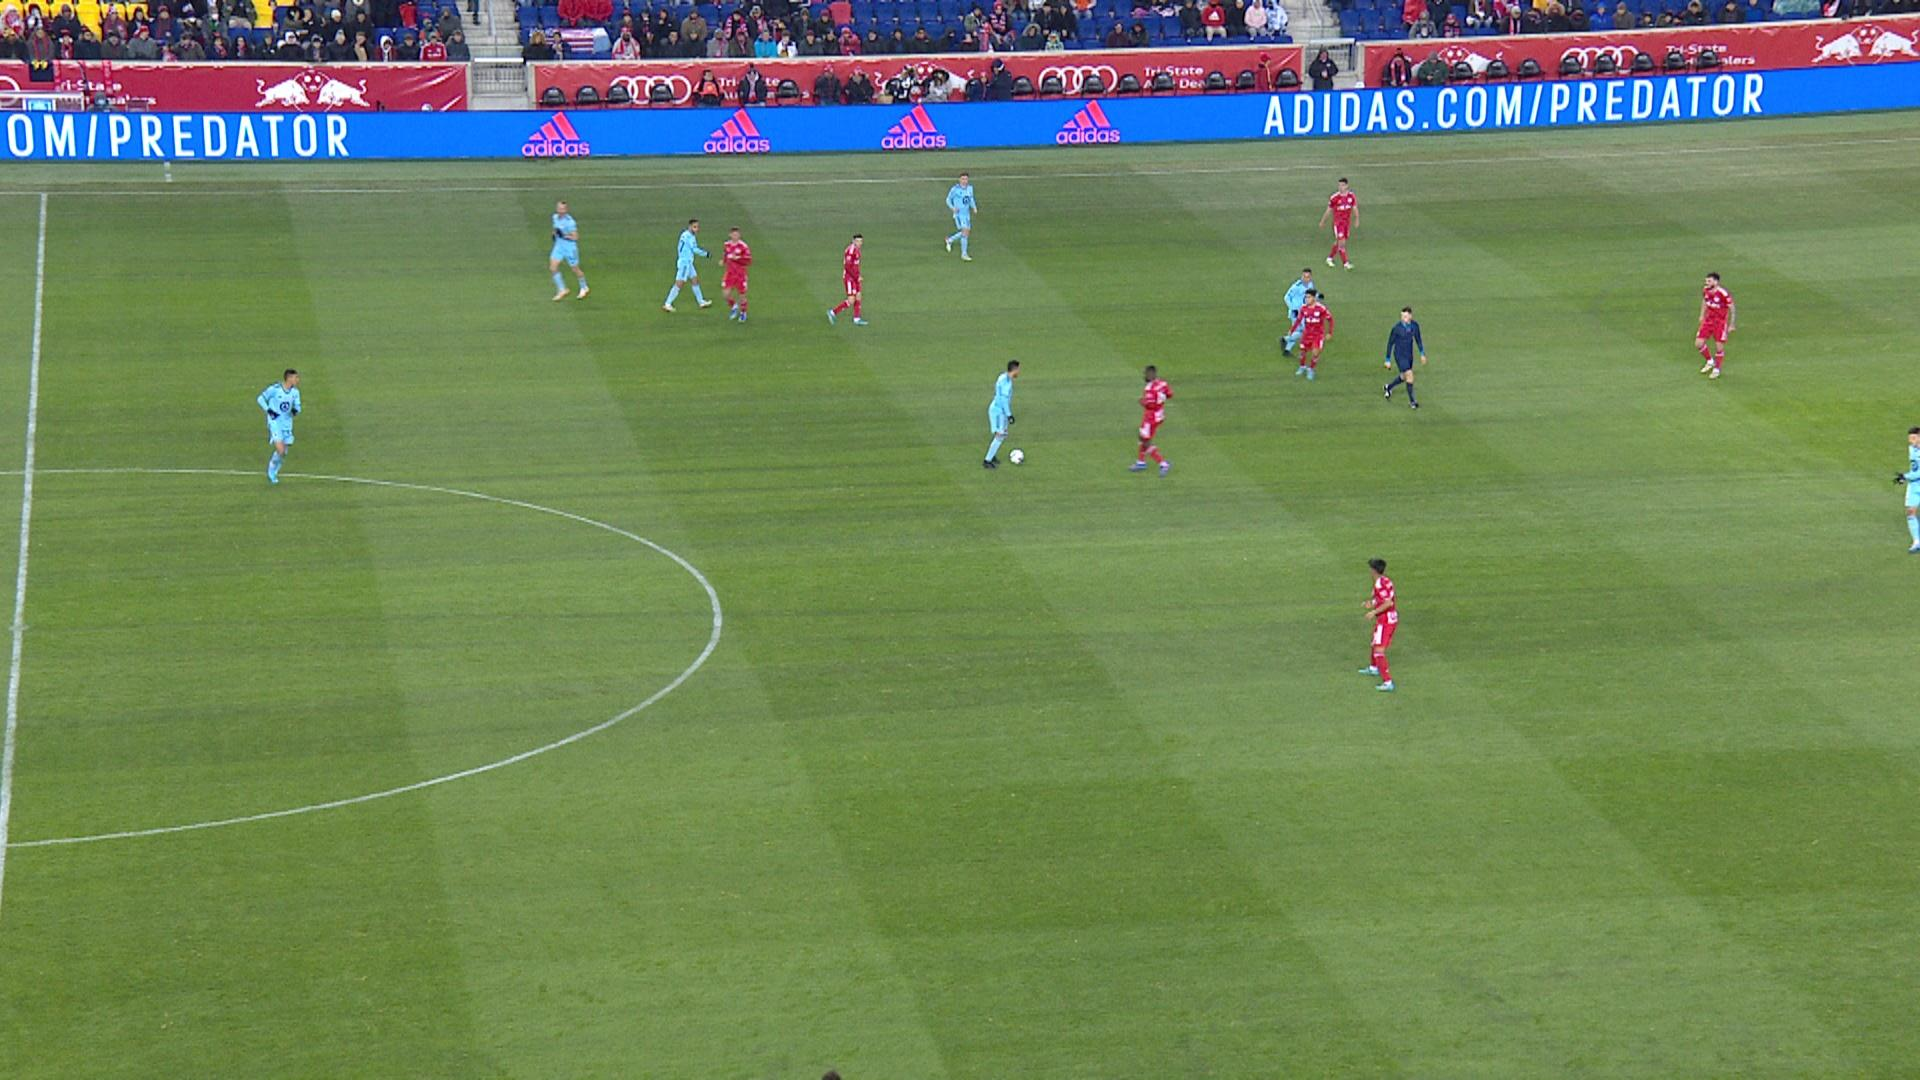football: (1009, 447, 1025, 465)
